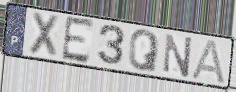3: (97, 23, 128, 67)
A: (190, 38, 227, 86)
E: (60, 15, 96, 66)
N: (162, 32, 194, 80)
Q: (127, 29, 161, 74)
X: (27, 10, 62, 60)
